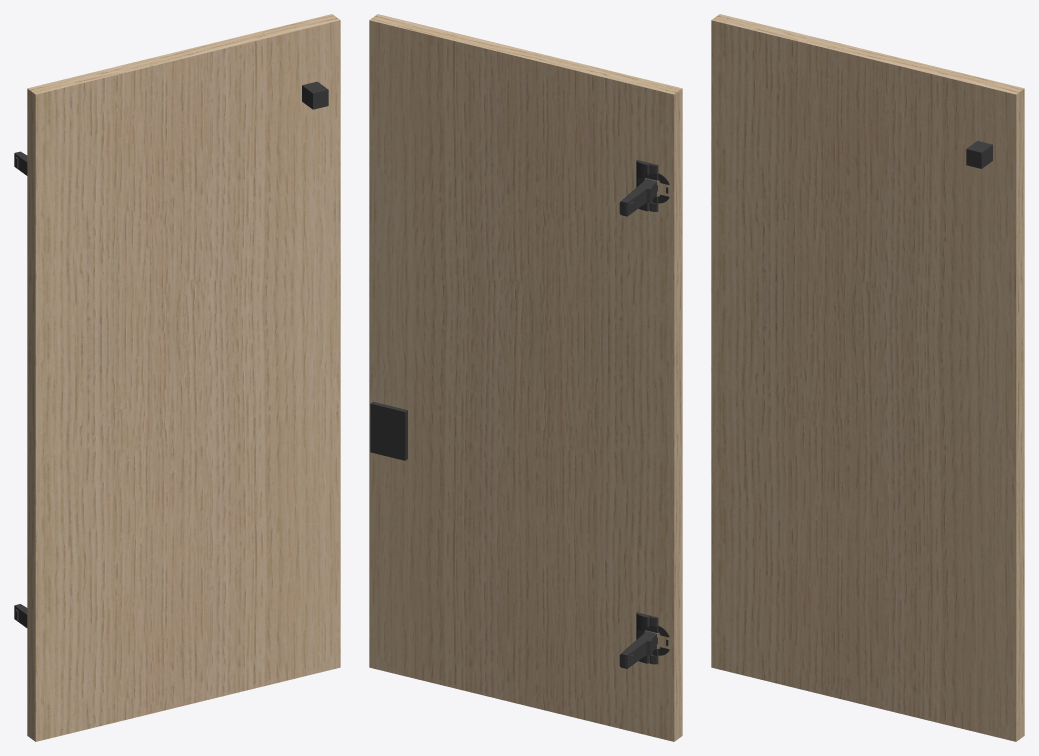
The model's file is Benk_C_dor_venstre.glb.
The picture shows the model from 3 angles, left to right: view 1: azimuth 30°, elevation 25°; view 2: azimuth 150°, elevation 25°; view 3: azimuth 330°, elevation 25°; orthographic projection.
Visible parts, largest first — view 1: 2025-284 Vitrineskap; view 2: 2025-284 Vitrineskap, Benk C dør venstre hengsel z758 Blum 71B3590, Benk C dør venstre hengsel z202 Blum 71B3590; view 3: 2025-284 Vitrineskap.
Part boxes in pixels (bbox=[...]): 2025-284 Vitrineskap: bbox=[27, 14, 340, 741]; 2025-284 Vitrineskap: bbox=[369, 14, 682, 741]; Benk C dør venstre hengsel z758 Blum 71B3590: bbox=[619, 160, 669, 216]; Benk C dør venstre hengsel z202 Blum 71B3590: bbox=[619, 612, 669, 668]; 2025-284 Vitrineskap: bbox=[711, 14, 1024, 741].
Size of the model in its own units: 393 by 797 by 112.
Materials: 2 (1 with a texture image).
